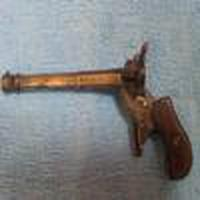gun: (2, 49, 199, 177)
